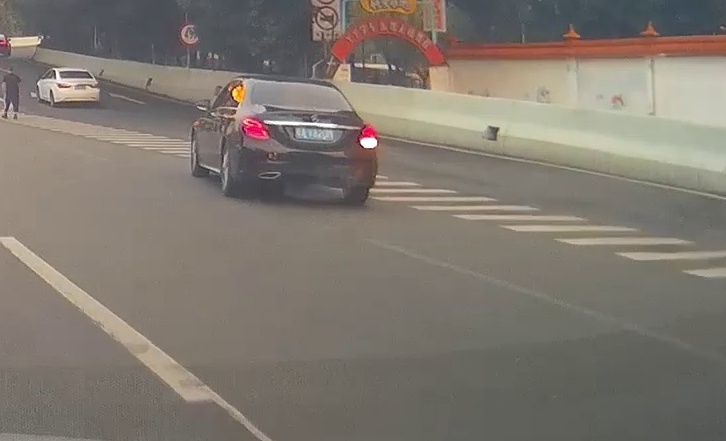L_light: (241, 118, 270, 139), (57, 83, 71, 88)
R_light: (356, 124, 378, 149), (88, 83, 99, 88)
T_light: (287, 85, 305, 90), (70, 71, 77, 73)
day-no: (54, 68, 100, 108)
day-right: (238, 75, 381, 207)
